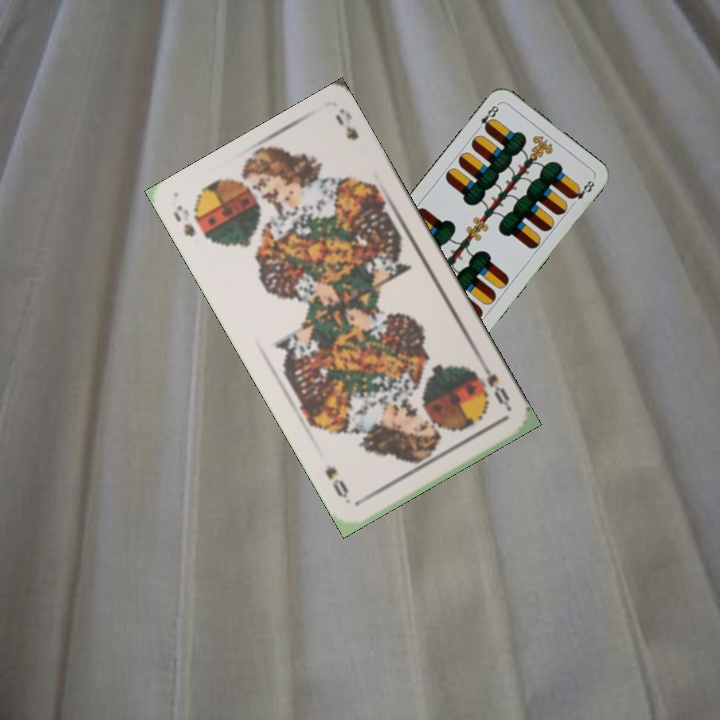E8: (472, 99, 502, 134)
SO: (477, 359, 514, 413), (168, 201, 198, 240)
